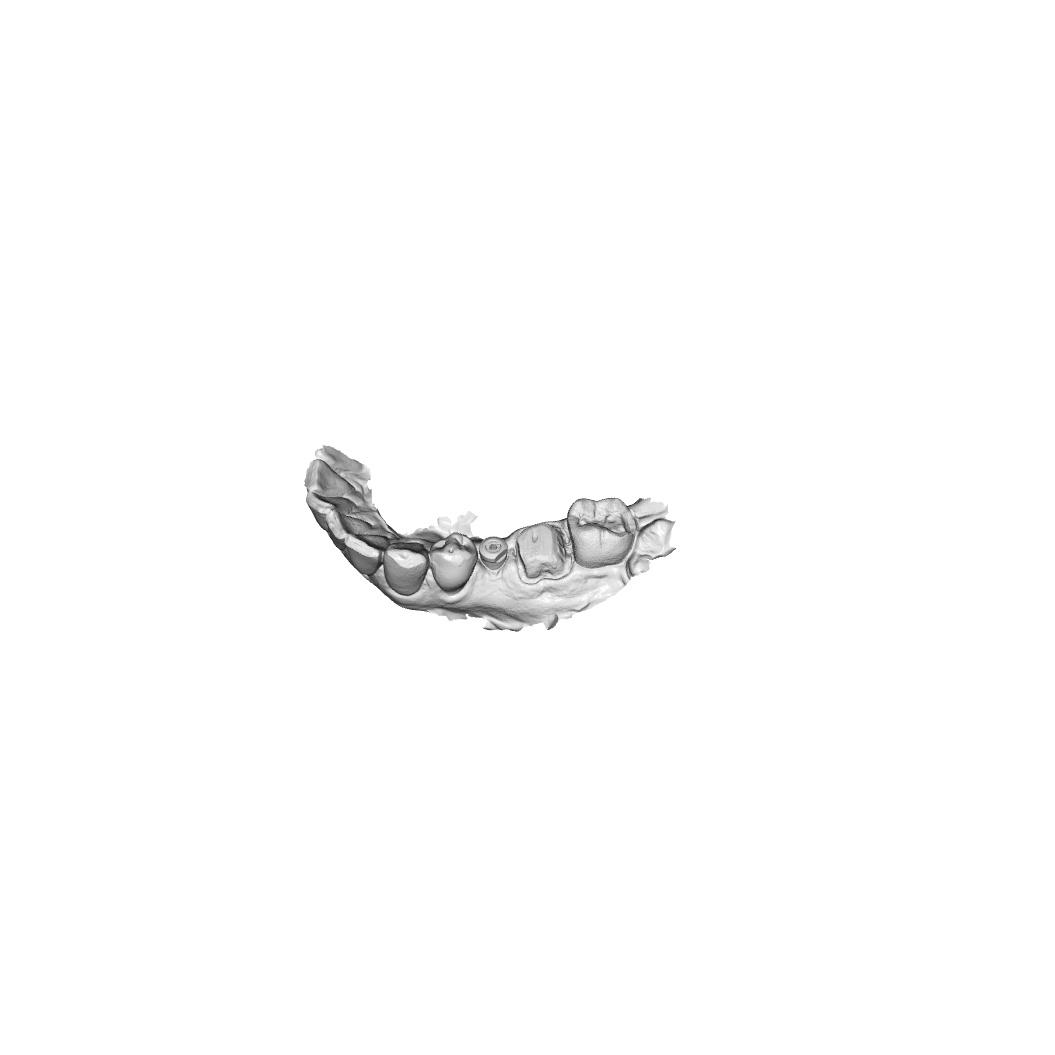canine: (381, 540, 429, 598)
crown: (513, 520, 570, 585)
implant_minus: (477, 534, 509, 572)
incisor: (340, 530, 390, 576), (303, 457, 358, 496), (324, 509, 376, 543), (304, 491, 357, 519)
molar: (565, 495, 639, 569)
premolar: (427, 530, 478, 596)
